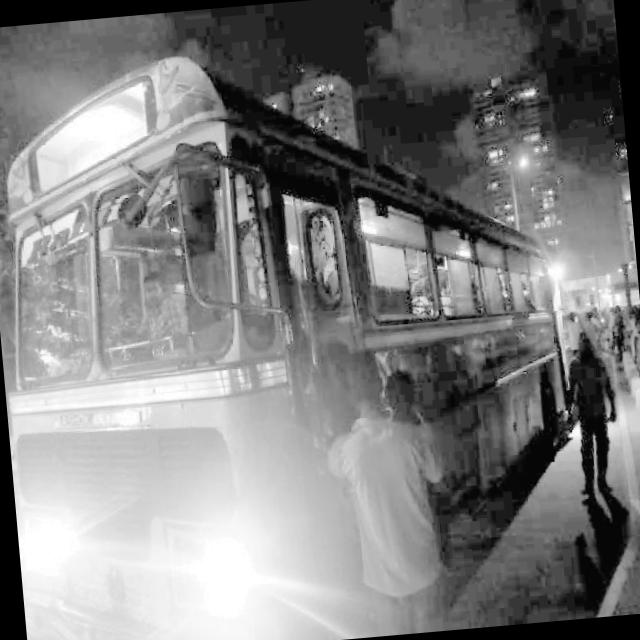Bus: (0, 14, 615, 640)
